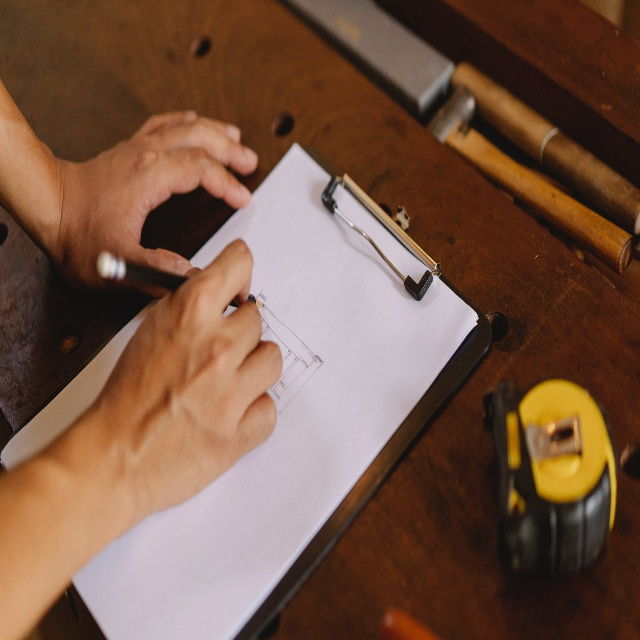Sin_guantes: (87, 239, 284, 545), (48, 109, 259, 300)
